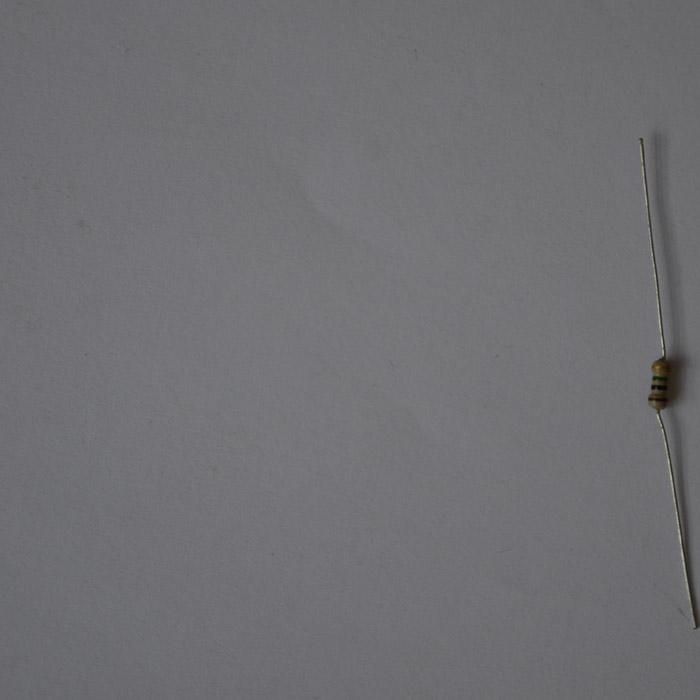resistor: (646, 361, 671, 410)
